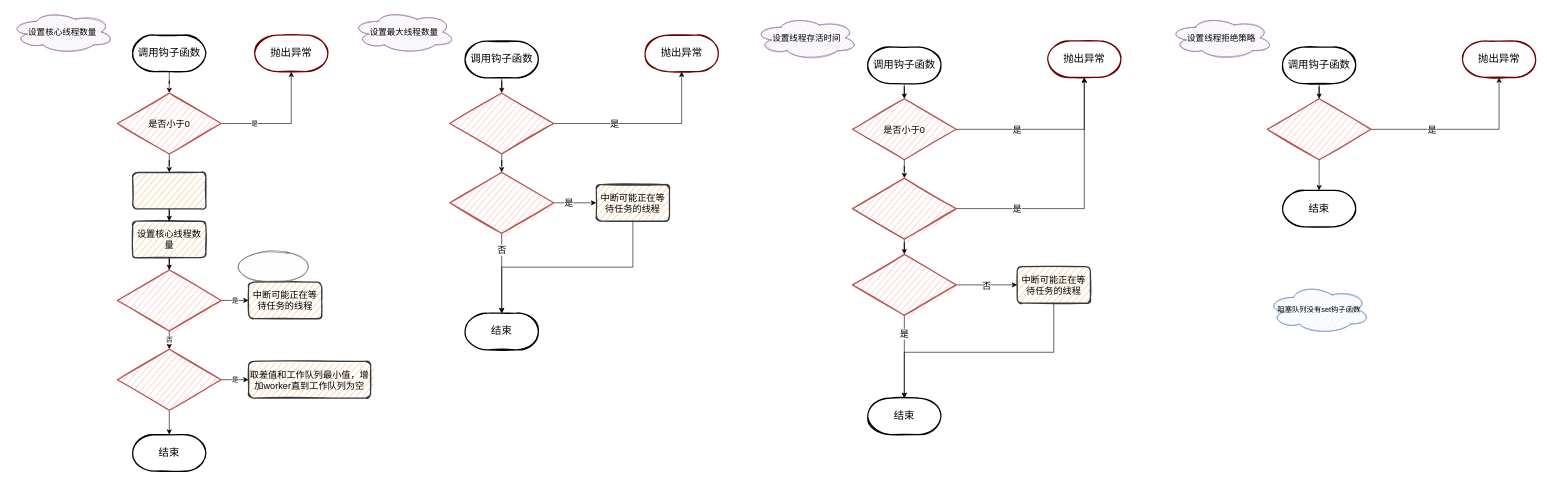
Image size: 1547x483. Some labels were removed from this diagram. The box of each missing label's shape, as (x1, y1, x2, y2) in pixels:
小于之前设置的存活时间: (852, 253, 956, 316)
工作中worker数量大于设置的最大线程数: (449, 171, 554, 234)
工作中worker数量大于设置的核心线程数: (117, 269, 221, 331)
新设置数量大于原先设置核心线程数量: (117, 348, 221, 411)
是否为null: (1266, 98, 1371, 160)
是否小于0或者小于核心线程数量: (449, 92, 554, 154)
是否等于0并且允许核心线程终止: (852, 177, 956, 239)
计算与当前核心线程数差值: (132, 171, 206, 209)
这里是对所有worker循环执行一次，CAS乐观锁执行: (236, 251, 310, 282)
